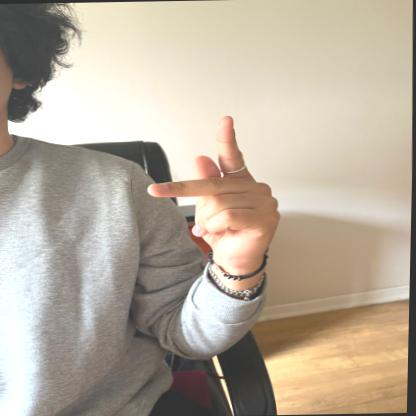K: (141, 110, 284, 266)
